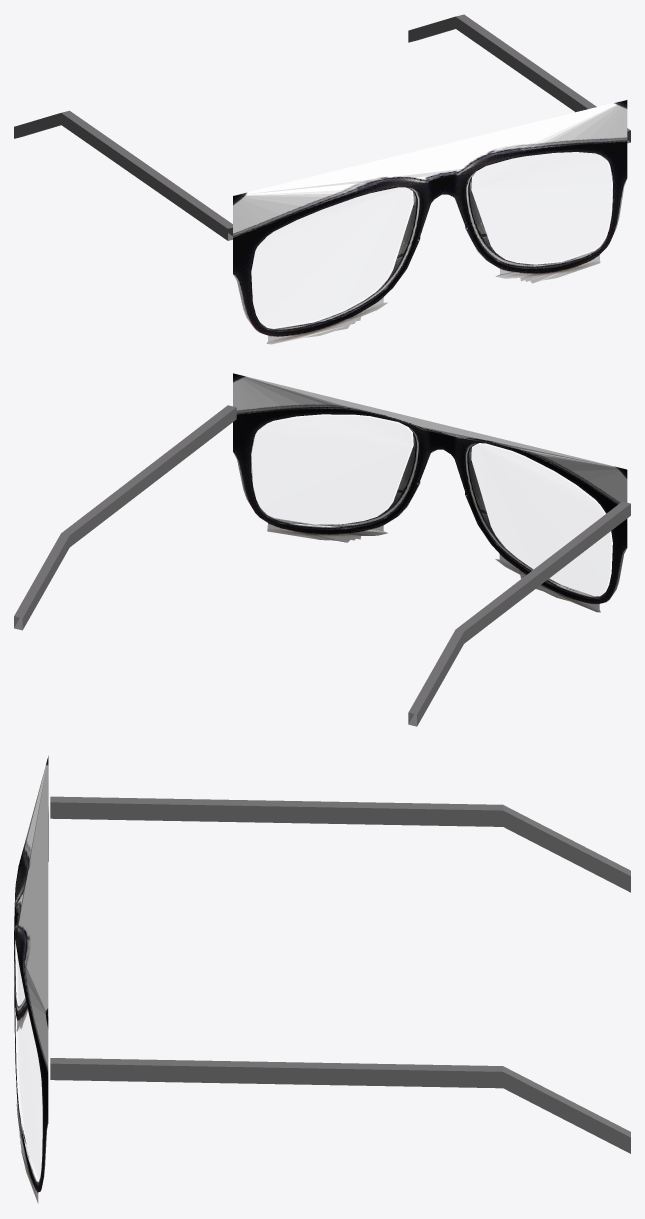
The model's file is gothamstyle-250_black.glb.
3 views of the same model, one above another, from view 1: azimuth 30°, elevation 25°; view 2: azimuth 150°, elevation 25°; view 3: azimuth 270°, elevation 25° (orthographic). The views are drawn at different scales.
Visible parts, largest first — view 1: frame_front, temple_viewer_left, temple_viewer_right; view 2: frame_front, temple_viewer_right, temple_viewer_left; view 3: temple_viewer_left, temple_viewer_right, frame_front.
Boxes of the visible parts, left/top/right/bottom form: frame_front: left=233, top=100, right=627, bottom=344; temple_viewer_left: left=14, top=110, right=232, bottom=240; temple_viewer_right: left=408, top=14, right=630, bottom=143; frame_front: left=233, top=373, right=627, bottom=612; temple_viewer_right: left=14, top=405, right=236, bottom=630; temple_viewer_left: left=408, top=501, right=630, bottom=726; temple_viewer_left: left=50, top=796, right=630, bottom=892; temple_viewer_right: left=50, top=1058, right=630, bottom=1153; frame_front: left=14, top=755, right=48, bottom=1203.
Bounding box in the file's own units: 0.1393 × 0.0509 × 0.136.
Materials: 3 (2 with a texture image).
